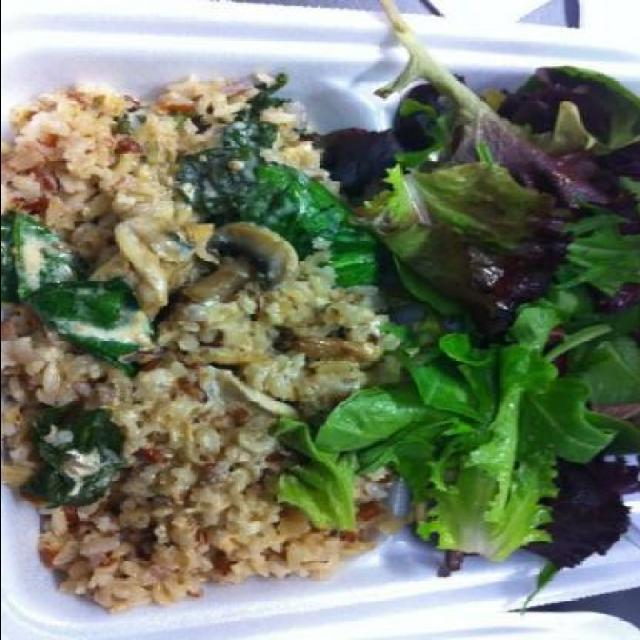Risotto: (23, 73, 389, 624)
